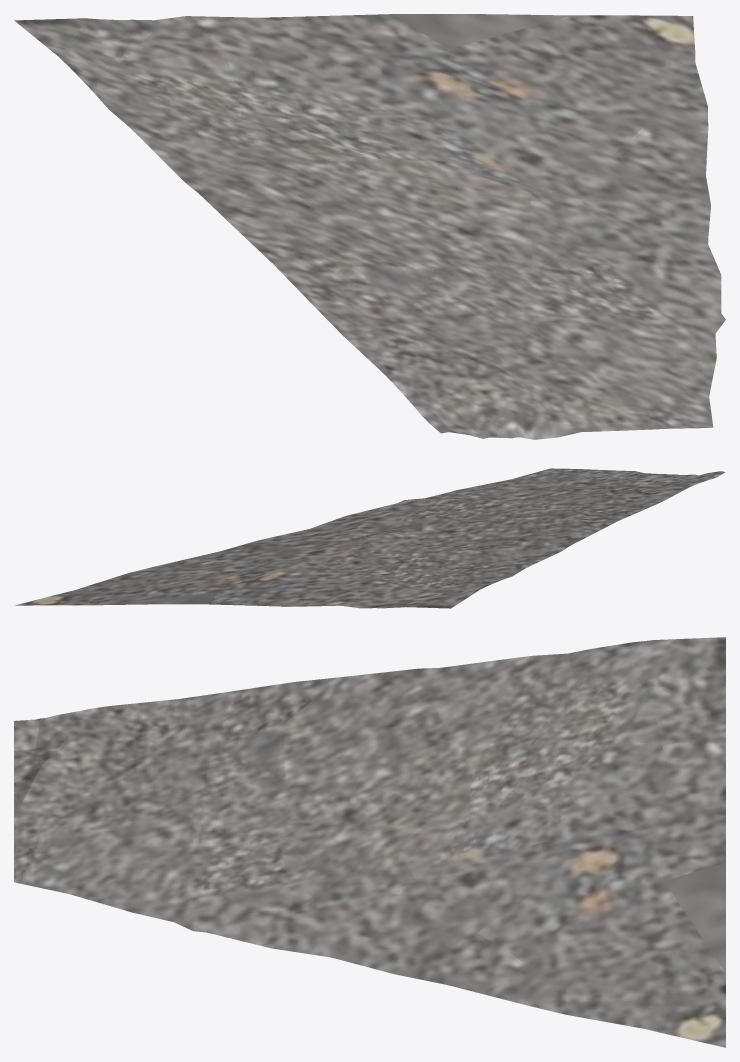
3 renders of one model, top to bottom at view 1: azimuth 30°, elevation 25°; view 2: azimuth 150°, elevation 25°; view 3: azimuth 270°, elevation 25°, orthographic. The views are drawn at different scales.
Size of the model in its own units: 0.7689 by 0.1744 by 0.8374.
Materials: 2 (2 with a texture image).
